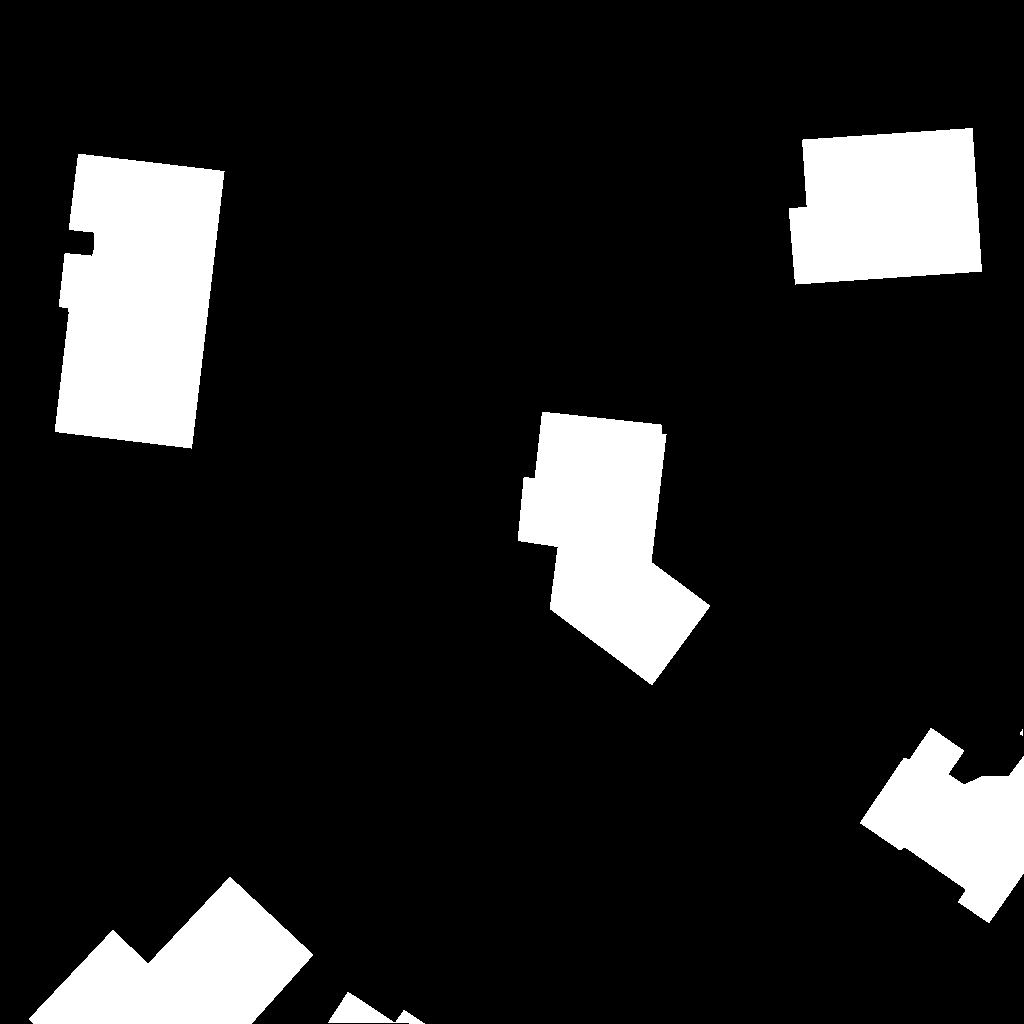building: (518, 412, 711, 686), (55, 154, 225, 449), (29, 877, 314, 1024), (860, 728, 1024, 924), (789, 128, 983, 285), (328, 992, 426, 1024), (1001, 0, 1009, 2)
